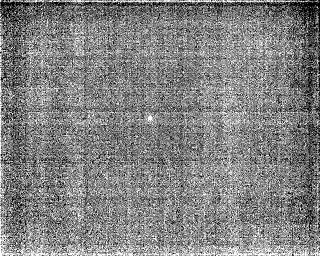BIRD: (146, 112, 156, 125)
